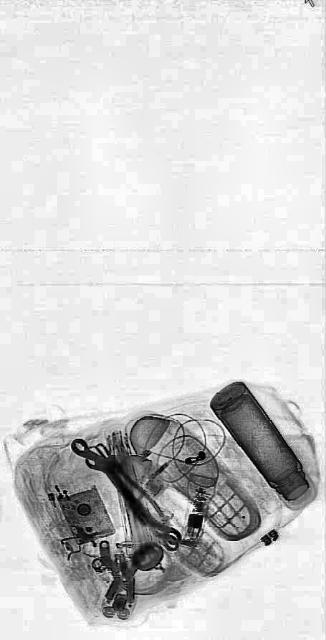Wrench: (69, 430, 181, 550)
